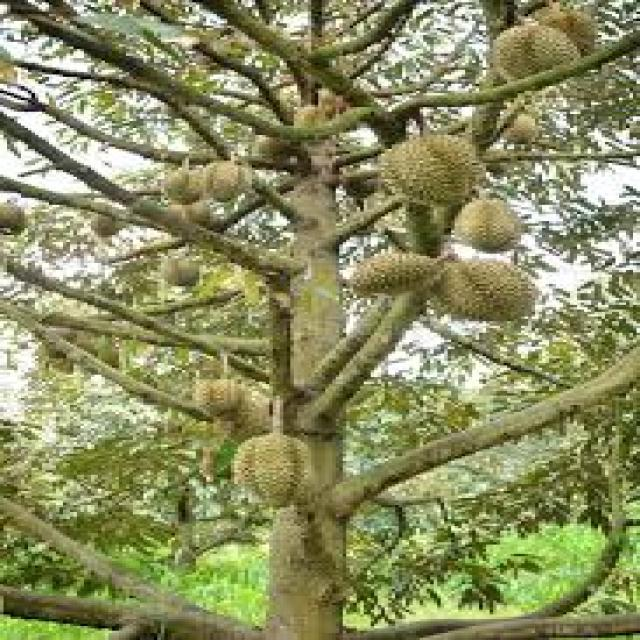mature: (234, 434, 312, 510)
